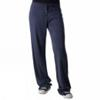pantaloni: (29, 4, 69, 90)
